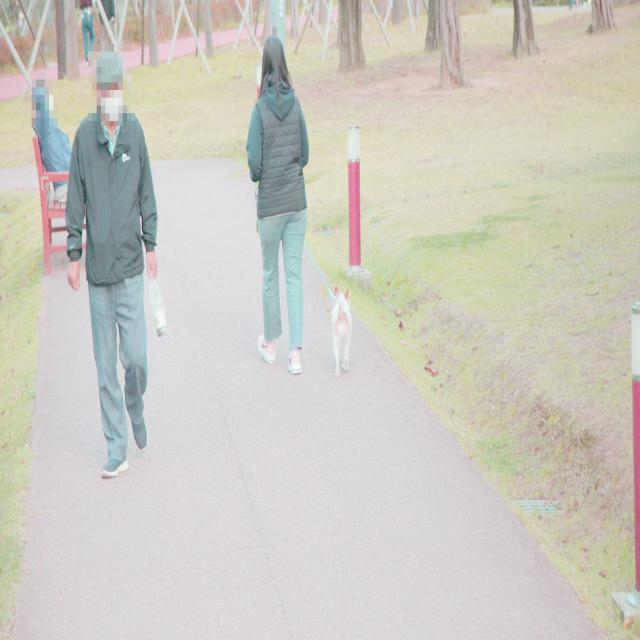Leashed_Dog: (255, 178, 352, 376)
